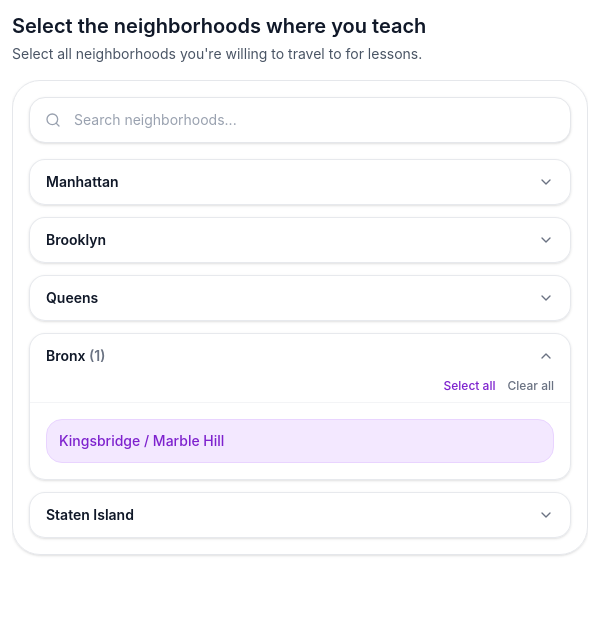
Test: NeighborhoodSelector › renders collapsed borough headers according to the A-Team count rules
Expected: the button with test id "neighborhood-borough-brooklyn" reads "Brooklyn", x1=46 y1=230 x2=554 y2=250
Step 1. Click the button with test id "neighborhood-borough-manhattan" → (82, 182), box x1=46 y1=172 x2=554 y2=192
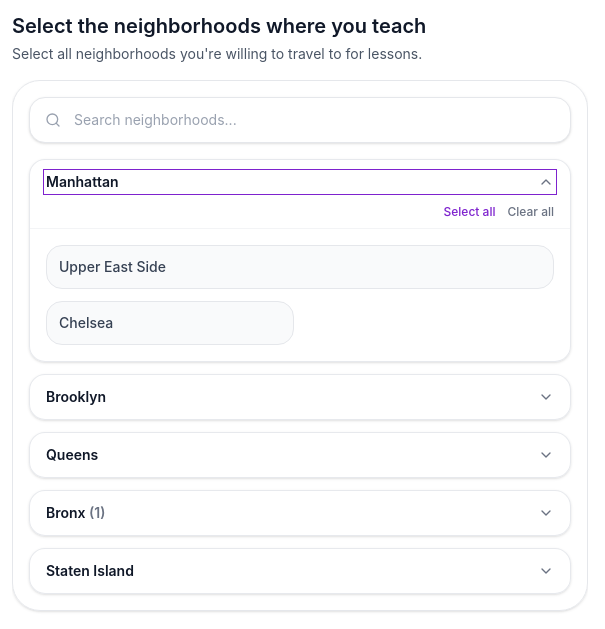
Expected: the button with test id "neighborhood-borough-bronx" shows "Bronx", x1=46 y1=503 x2=554 y2=523
Result: the button with test id "neighborhood-borough-bronx" is collapsed at x1=46 y1=503 x2=554 y2=523
